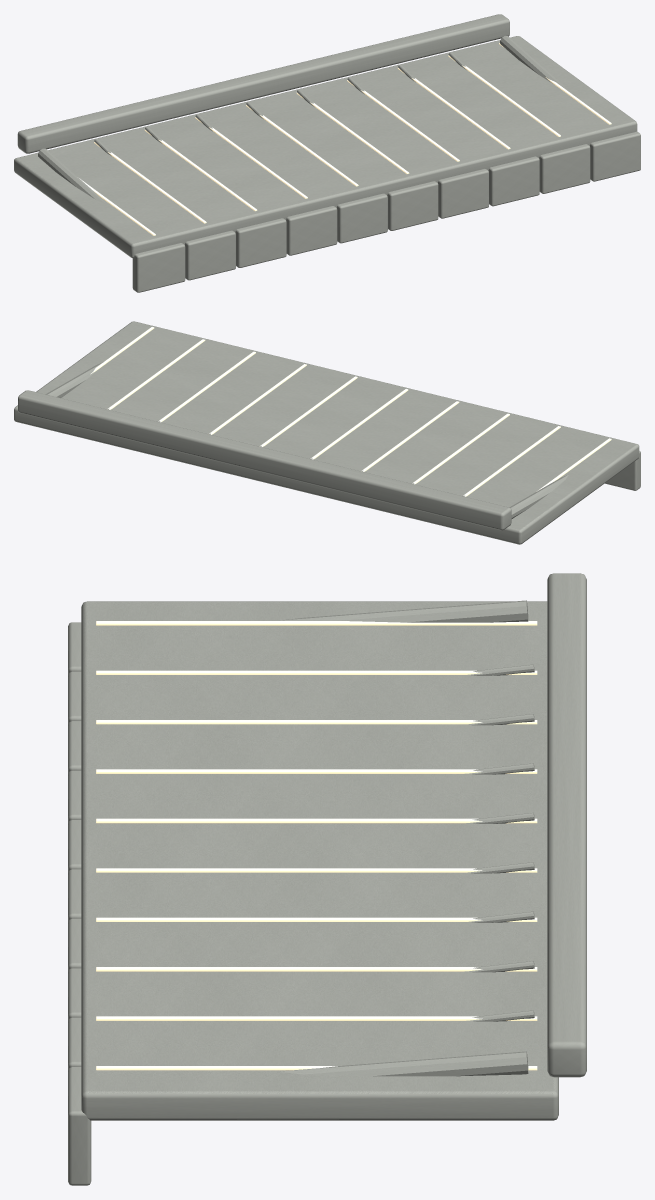
The model's file is night_market_awnings.glb.
3 renders of one model, top to bottom at view 1: azimuth 30°, elevation 25°; view 2: azimuth 150°, elevation 25°; view 3: azimuth 270°, elevation 25°, orthographic. The views are drawn at different scales.
Visible parts, largest first — view 1: ENV_NMK_Awning_Canopy, ENV_NMK_Awning_Backplate, ENV_NMK_Awning_Valance, ENV_NMK_Awning_Valance.008, ENV_NMK_Awning_Valance.003, ENV_NMK_Awning_Valance.005, ENV_NMK_Awning_Valance.002, ENV_NMK_Awning_Valance.007, ENV_NMK_Awning_Valance.001, ENV_NMK_Awning_Valance.004, ENV_NMK_Awning_Valance.009, ENV_NMK_Awning_Valance.006 (+10 smaller); view 2: ENV_NMK_Awning_Canopy, ENV_NMK_Awning_Backplate, ENV_NMK_Awning_Valance, ENV_NMK_Awning_Brace, ENV_NMK_Awning_Brace.001, ENV_NMK_Awning_Seam.001, ENV_NMK_Awning_Seam.002, ENV_NMK_Awning_Seam.004, ENV_NMK_Awning_Seam.005, ENV_NMK_Awning_Seam.006, ENV_NMK_Awning_Seam.007, ENV_NMK_Awning_Seam.008 (+1 smaller); view 3: ENV_NMK_Awning_Canopy, ENV_NMK_Awning_Backplate, ENV_NMK_Awning_Brace.001, ENV_NMK_Awning_Brace, ENV_NMK_Awning_Seam.004, ENV_NMK_Awning_Valance.009, ENV_NMK_Awning_Seam, ENV_NMK_Awning_Seam.007, ENV_NMK_Awning_Seam.002, ENV_NMK_Awning_Seam.003, ENV_NMK_Awning_Seam.005, ENV_NMK_Awning_Seam.008 (+3 smaller).
Boxes of the visible parts, x1,y1,x2,y2 form: ENV_NMK_Awning_Canopy: [14, 36, 637, 258]; ENV_NMK_Awning_Backplate: [17, 14, 509, 153]; ENV_NMK_Awning_Valance: [132, 243, 185, 292]; ENV_NMK_Awning_Valance.008: [539, 144, 590, 193]; ENV_NMK_Awning_Valance.003: [286, 206, 337, 255]; ENV_NMK_Awning_Valance.005: [387, 181, 438, 230]; ENV_NMK_Awning_Valance.002: [235, 218, 286, 267]; ENV_NMK_Awning_Valance.007: [488, 156, 539, 206]; ENV_NMK_Awning_Valance.001: [185, 230, 235, 280]; ENV_NMK_Awning_Valance.004: [337, 193, 387, 243]; ENV_NMK_Awning_Valance.009: [590, 131, 640, 181]; ENV_NMK_Awning_Valance.006: [438, 169, 488, 218]; ENV_NMK_Awning_Canopy: [14, 321, 639, 544]; ENV_NMK_Awning_Backplate: [18, 390, 511, 530]; ENV_NMK_Awning_Valance: [605, 451, 640, 490]; ENV_NMK_Awning_Brace: [509, 474, 568, 518]; ENV_NMK_Awning_Brace.001: [46, 362, 103, 397]; ENV_NMK_Awning_Seam.001: [463, 426, 560, 496]; ENV_NMK_Awning_Seam.002: [412, 413, 509, 484]; ENV_NMK_Awning_Seam.004: [310, 389, 408, 459]; ENV_NMK_Awning_Seam.005: [259, 376, 357, 446]; ENV_NMK_Awning_Seam.006: [209, 364, 306, 434]; ENV_NMK_Awning_Seam.007: [158, 351, 255, 422]; ENV_NMK_Awning_Seam.008: [107, 339, 205, 409]; ENV_NMK_Awning_Canopy: [81, 601, 558, 1120]; ENV_NMK_Awning_Backplate: [547, 573, 586, 1077]; ENV_NMK_Awning_Brace.001: [279, 1051, 528, 1076]; ENV_NMK_Awning_Brace: [279, 600, 528, 622]; ENV_NMK_Awning_Seam.004: [96, 818, 537, 823]; ENV_NMK_Awning_Valance.009: [68, 1067, 91, 1185]; ENV_NMK_Awning_Seam: [96, 621, 537, 625]; ENV_NMK_Awning_Seam.007: [96, 967, 537, 971]; ENV_NMK_Awning_Seam.002: [96, 720, 537, 724]; ENV_NMK_Awning_Seam.003: [96, 769, 537, 773]; ENV_NMK_Awning_Seam.005: [96, 868, 537, 872]; ENV_NMK_Awning_Seam.008: [96, 1016, 537, 1020].
Size of what is drawn, in the model's own units: 3.55 by 0.445 by 1.58.
5 materials, 5 textured.
